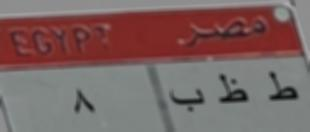8: (69, 84, 98, 122)
Taa: (260, 66, 301, 110)
Thaa: (213, 68, 252, 115)
baa: (169, 80, 207, 119)
